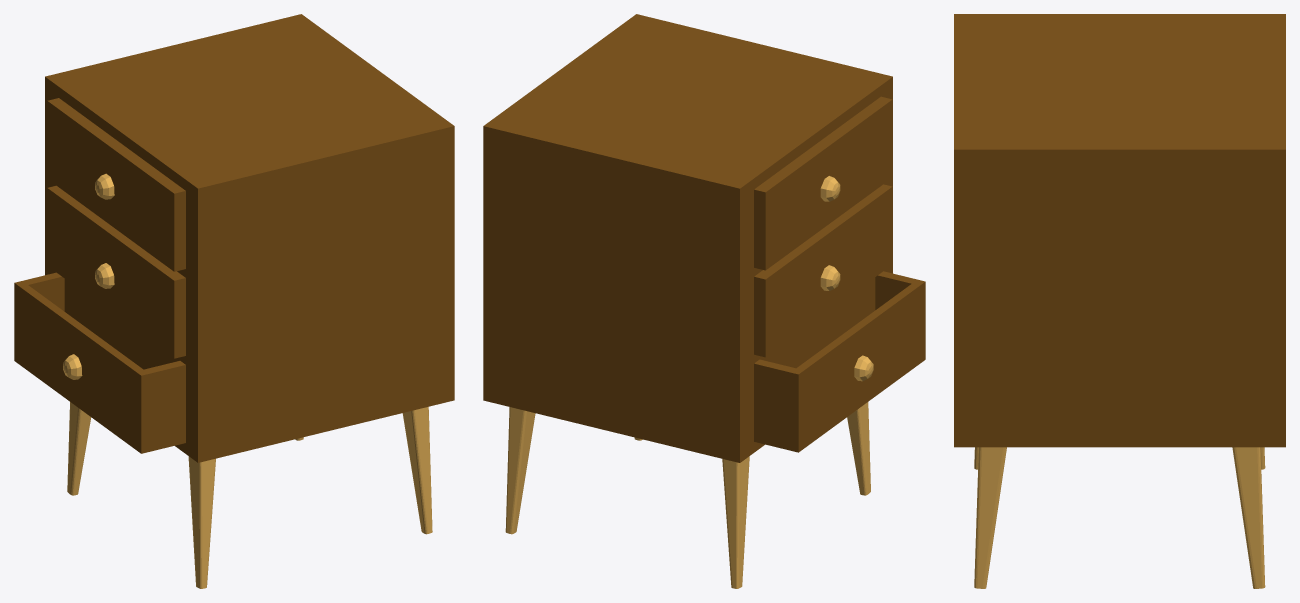
File: Drawer_01.fbx
3 views of the same model, side by side, from view 1: azimuth 30°, elevation 25°; view 2: azimuth 150°, elevation 25°; view 3: azimuth 270°, elevation 25° (orthographic). The views are drawn at different scales.
Parts seen in each view (by area): view 1: Cube.022; view 2: Cube.022; view 3: Cube.022.
Part boxes in pixels (x1=…): Cube.022: x1=14, y1=14, x2=454, y2=588; Cube.022: x1=483, y1=14, x2=925, y2=588; Cube.022: x1=954, y1=14, x2=1285, y2=588.
Bounding box in the file's own units: 69.96 × 88.21 × 59.48.
